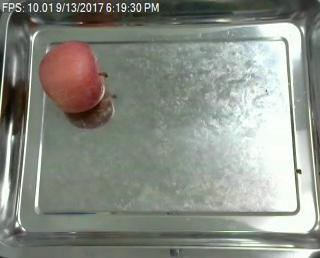apple: (38, 41, 107, 113)
